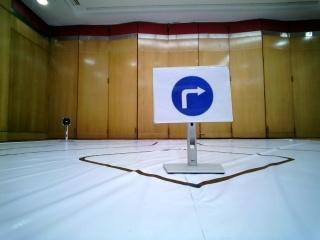right: (150, 66, 231, 120)
